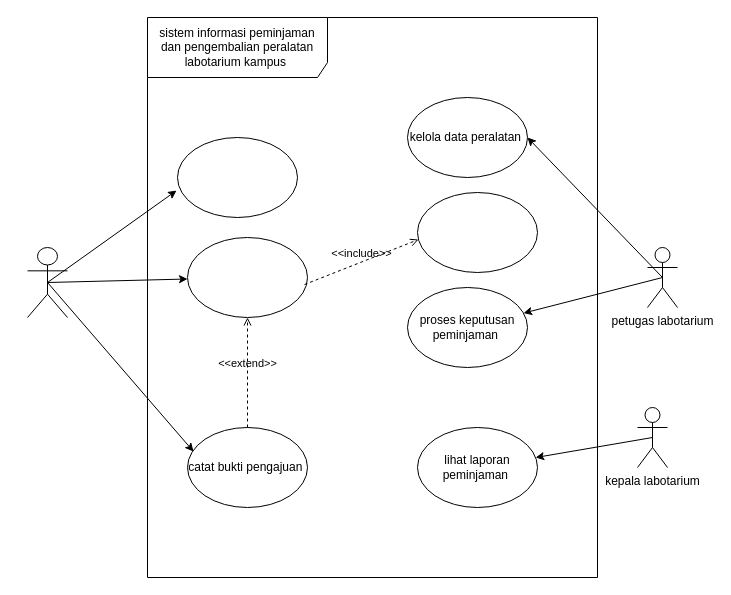
Some shapes in this 731 by 595 pixel diagram are drawn without their labels. The centre of each missing label's shape, as x and y in pixels:
"ajukan peminjaman" belongs at (247,277).
"lihat ketersedian peralatan" belongs at (237,177).
"mahasiswa" belongs at (47,282).
"periksa ketersediaan" belongs at (477,232).
